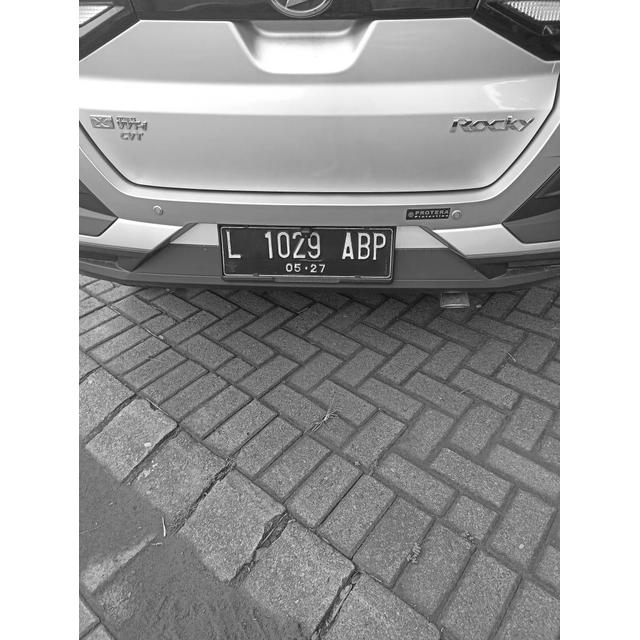license: (223, 229, 388, 274)
